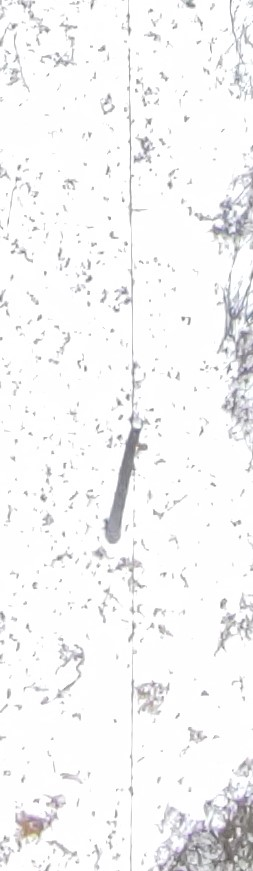pole: (79, 369, 198, 587)
